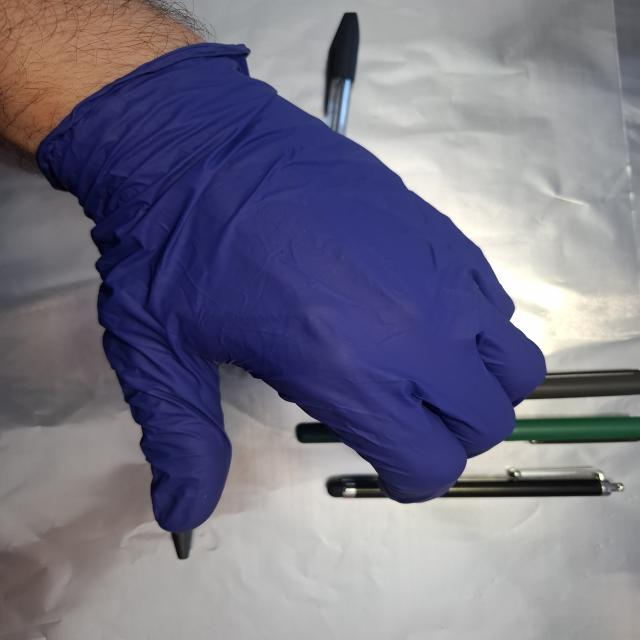glove_on: (34, 39, 552, 536)
